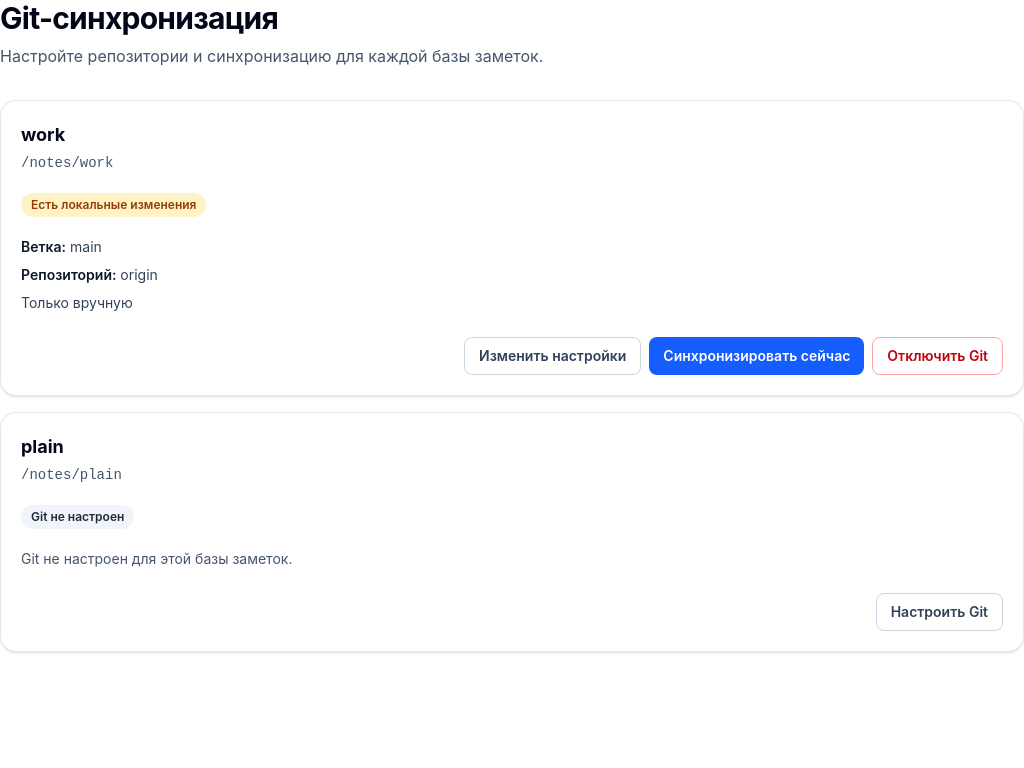
Test case: GitSettingsSection › confirms disable once, retains files, publishes the response base, and refreshes once
The width and height of the screenshot is (1024, 768).
Click the button "Отключить Git" at (938, 356), box [872,337,1003,375]
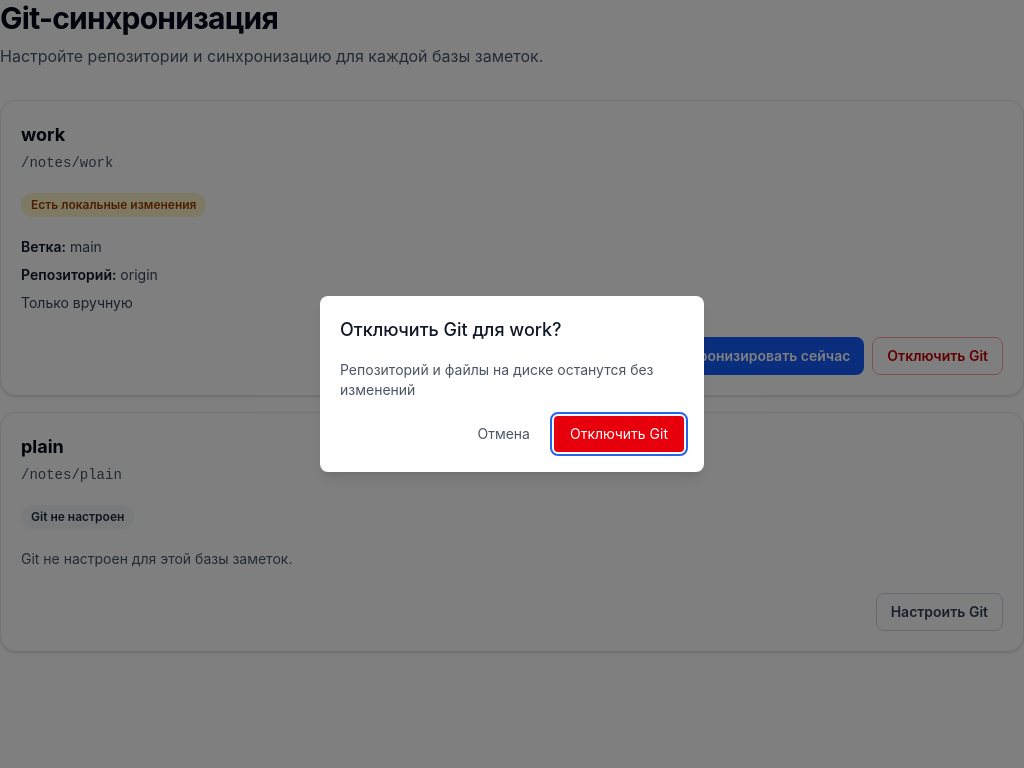
Check: the dialog "Отключить Git для work?" shows "Репозиторий и файлы на диске останутся без изменений", box [340,361,654,398]
Click the button "Отключить Git" at (619, 434), box [554,416,684,452]
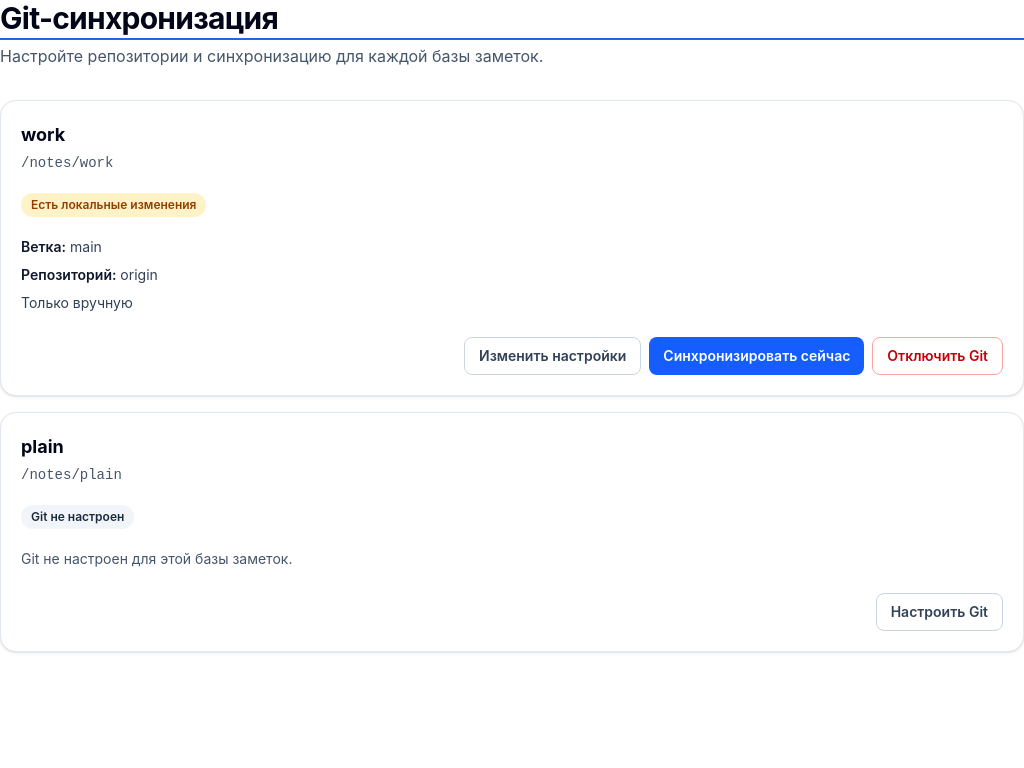
Check: the dialog is gone
